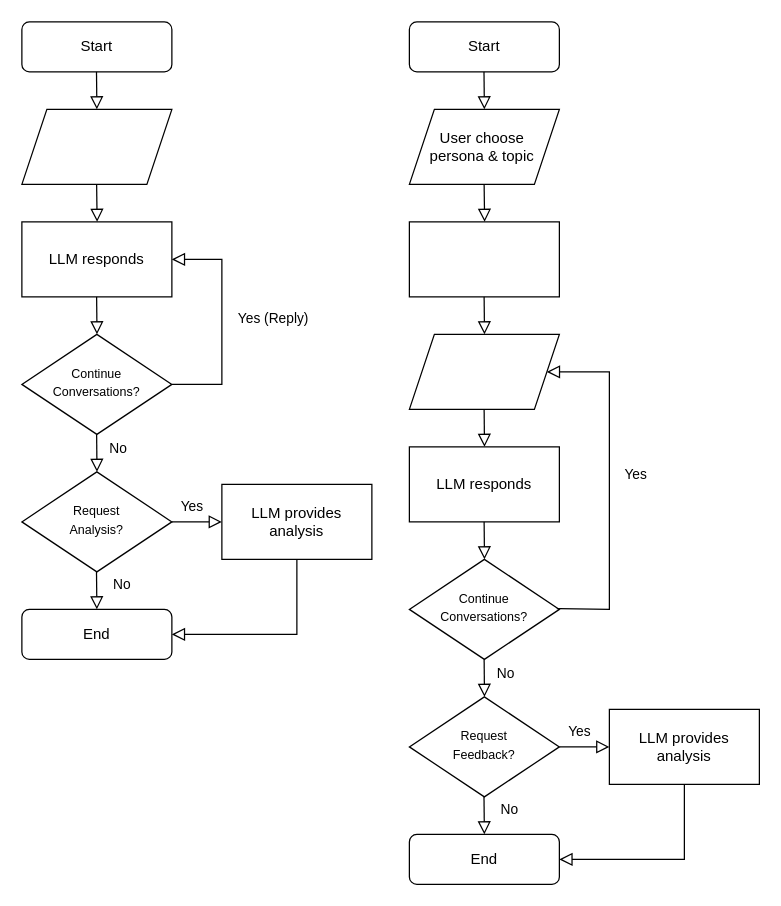
This 781x906 diagram has some shape labels left out. The shapes that lost their labels are listed below. From the top down, each one's box as (x1, y1, x2, y2) in pixels, then its label:
(21, 108, 172, 184): input persona & topic
(408, 221, 559, 297): LLM starts chat
(408, 333, 559, 409): User chat
